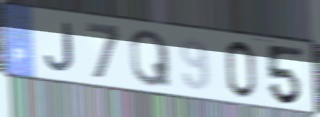0: (224, 40, 258, 100)
5: (264, 41, 307, 106)
7: (85, 20, 124, 82)
9: (178, 34, 212, 93)
J: (43, 20, 77, 74)
Q: (128, 29, 174, 90)
